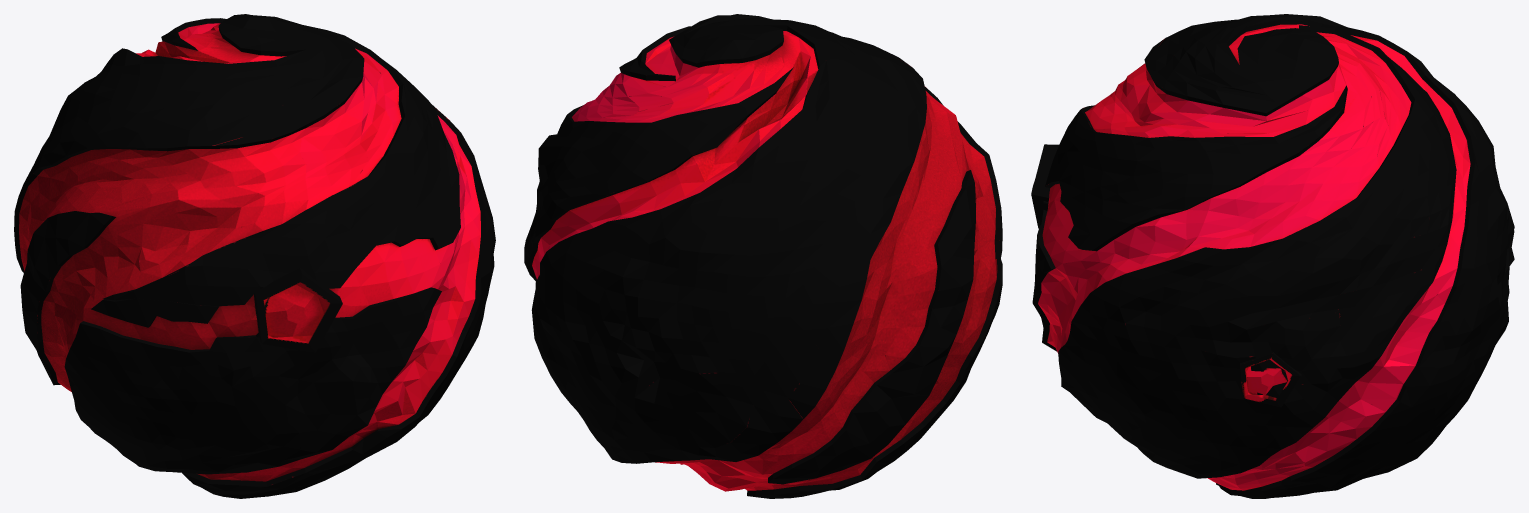
Rendered from lava.fbx.
3 renders of one model, left to right at view 1: azimuth 30°, elevation 25°; view 2: azimuth 150°, elevation 25°; view 3: azimuth 270°, elevation 25°, orthographic.
Parts seen in each view (by area): view 1: lava; view 2: lava; view 3: lava.
Part boxes in pixels (left/top/right/bottom): lava: left=14, top=14, right=495, bottom=498; lava: left=524, top=14, right=1002, bottom=498; lava: left=1031, top=14, right=1514, bottom=498.
Bounding box in the file's own units: 445 × 453 × 446.
